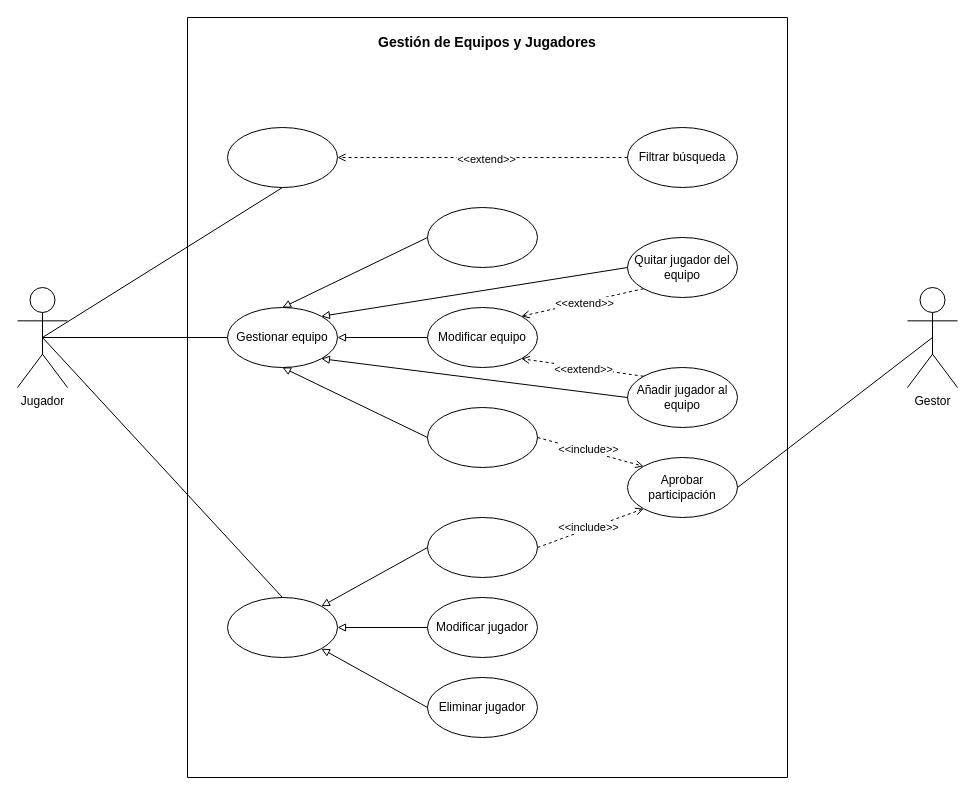
This 975x795 diagram has some shape labels left out. The centre of each missing label's shape, as x and y in pixels:
"Consultar lista de equipos y jugadores" goes at point (282, 157).
"Eliminar equipo" goes at point (482, 237).
"Gestionar jugador" goes at point (282, 627).
"Registrar equipo" goes at point (482, 437).
"Registrar jugador" goes at point (482, 547).
